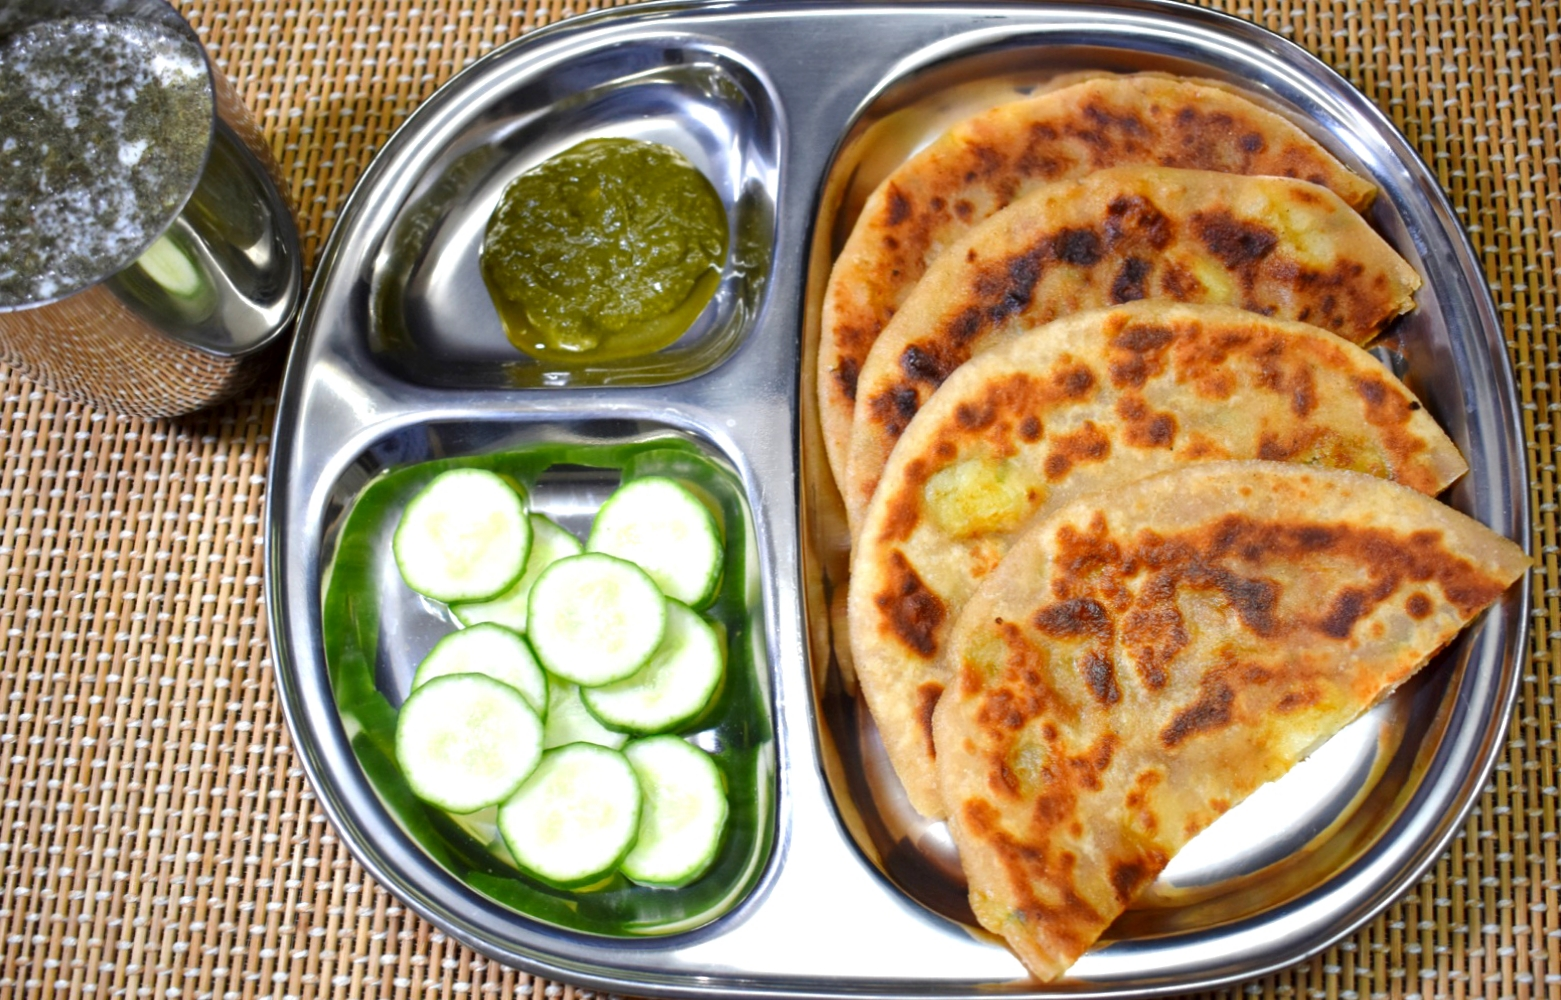aloo_paratha: (819, 74, 1530, 1000)
